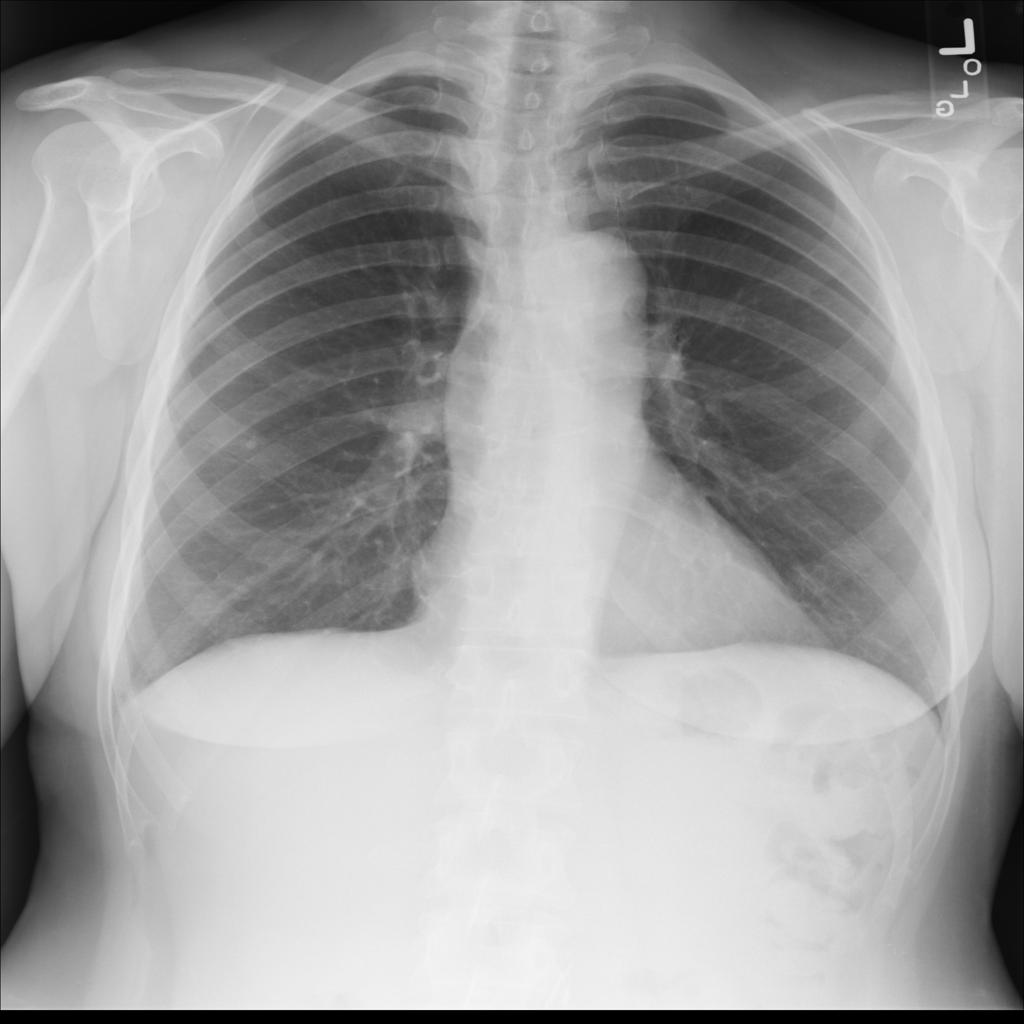nodule: (222, 420, 281, 464)
